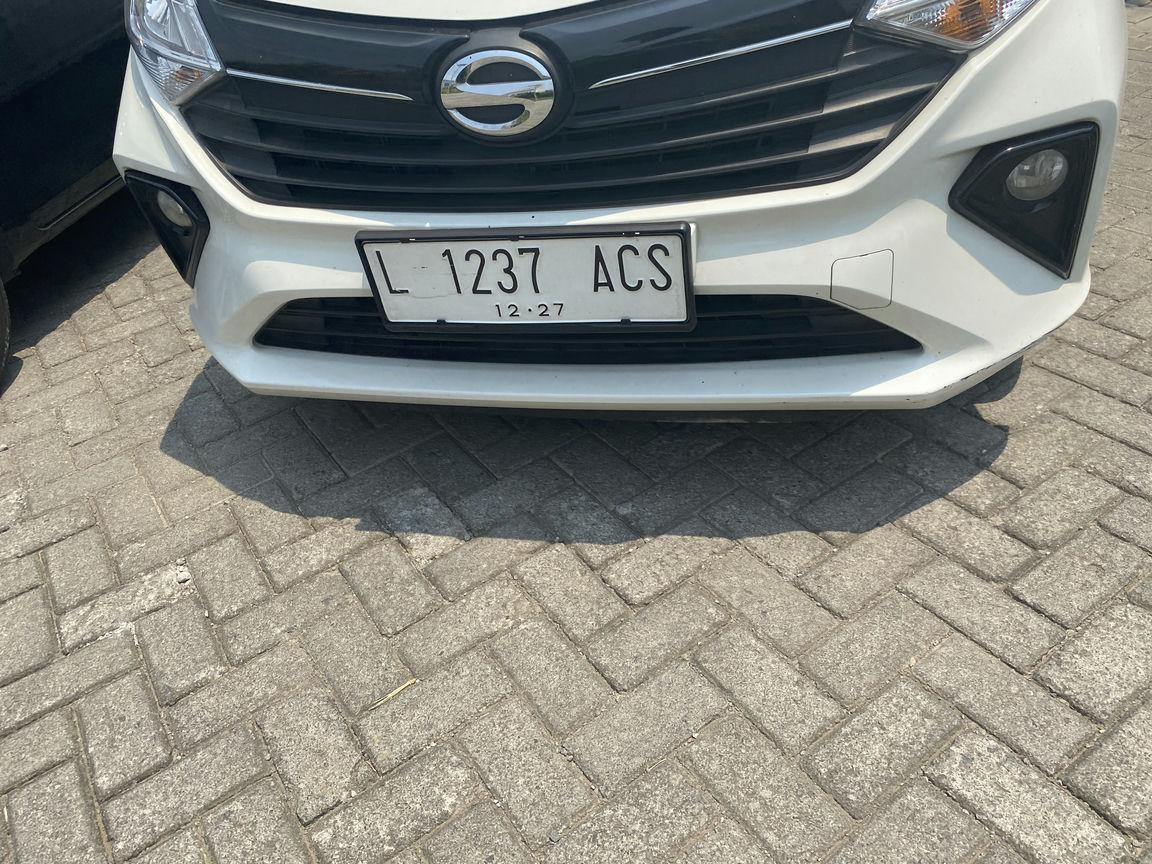plat: (360, 227, 693, 326)
